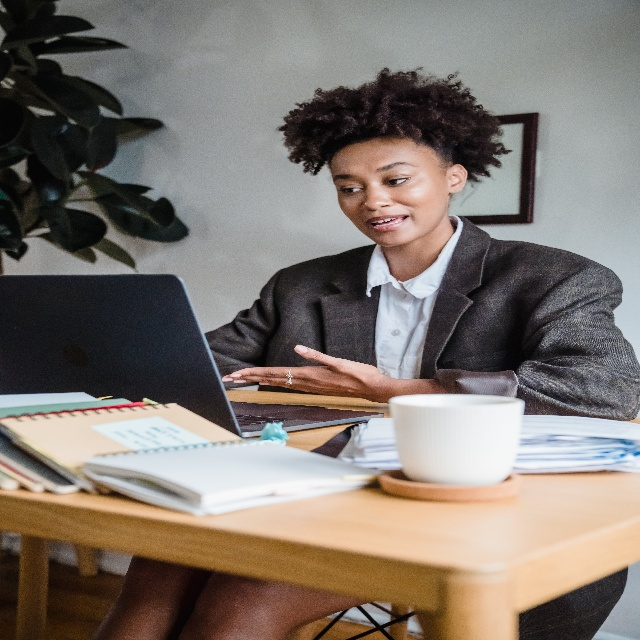Sin_guantes: (219, 343, 382, 404)
